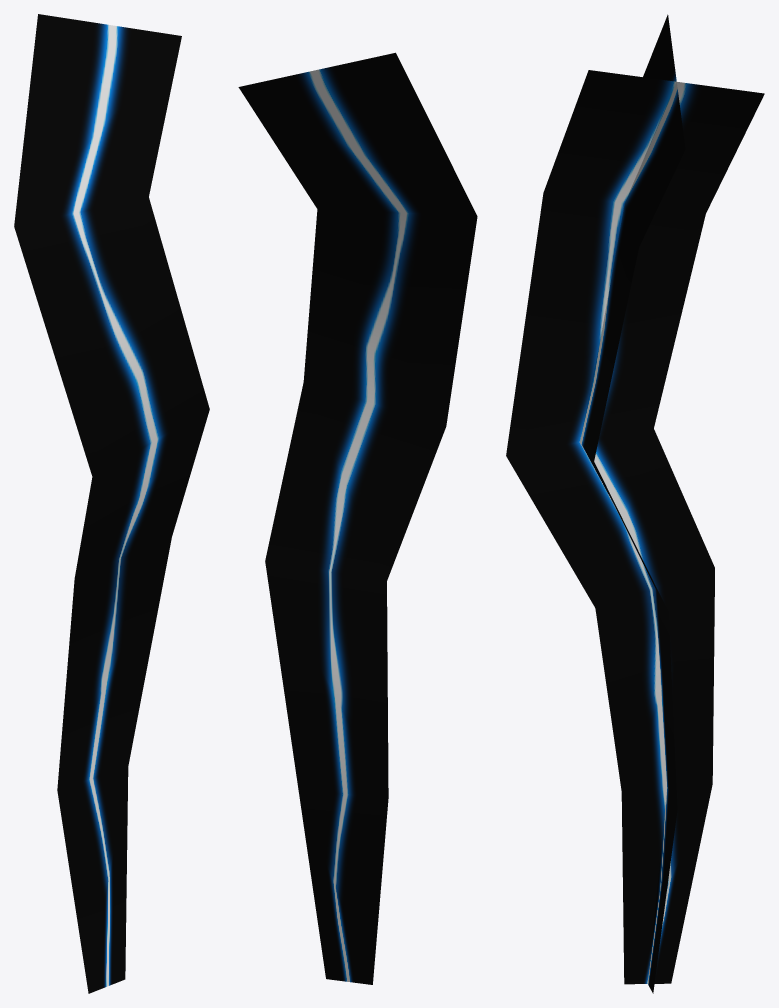
File: ms_lightning03_03.fbx
The picture shows the model from 3 angles, left to right: view 1: azimuth 30°, elevation 25°; view 2: azimuth 150°, elevation 25°; view 3: azimuth 270°, elevation 25°; orthographic projection. The views are drawn at different scales.
Parts seen in each view (by area): view 1: ms_lightning_03_03; view 2: ms_lightning_03_03; view 3: ms_lightning_03_03.
Part boxes in pixels (x1,y1,x2,y2): ms_lightning_03_03: [14, 14, 209, 993]; ms_lightning_03_03: [238, 52, 477, 984]; ms_lightning_03_03: [506, 14, 764, 993].
Bounding box in the file's own units: 44.82 × 203 × 50.41.
